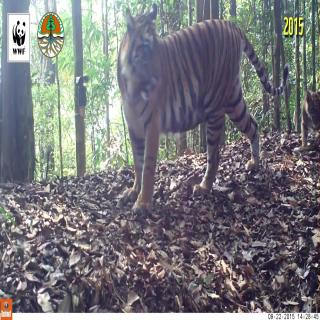Tiger: (106, 0, 285, 225)
